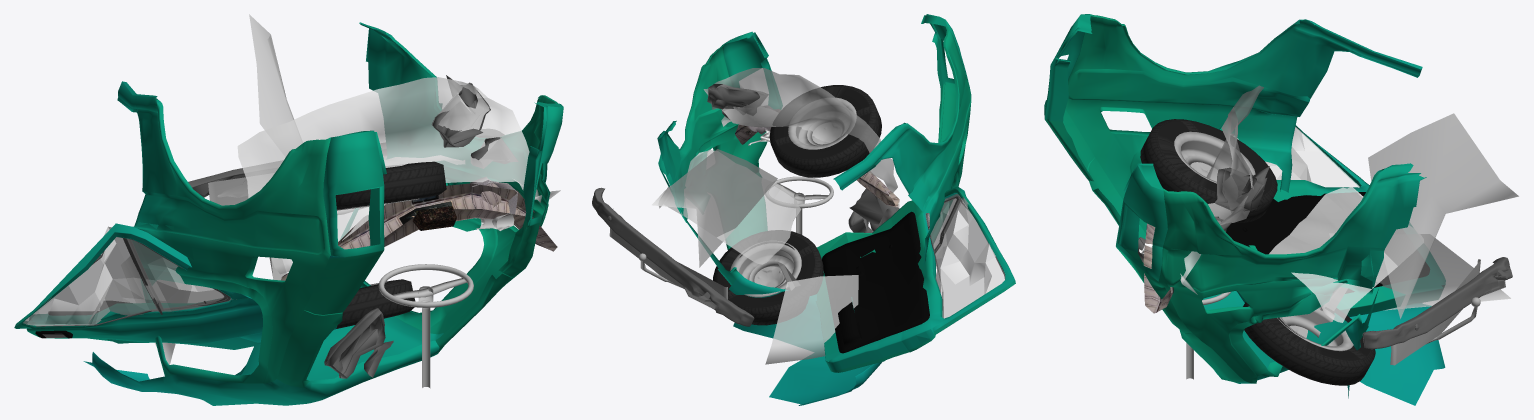
The model's file is car_3.fbx.
The picture shows the model from 3 angles, left to right: view 1: azimuth 30°, elevation 25°; view 2: azimuth 150°, elevation 25°; view 3: azimuth 270°, elevation 25°; orthographic projection. The views are drawn at different scales.
Visible parts, largest first — view 1: Mesh_0159_rip1, Mesh_0212_rip, Mesh_0134_rip, Mesh_0210_rip, Mesh_0081_rip, Mesh_0102_rip, Mesh_0209_rip, Mesh_0187_rip, Mesh_0104_rip1, Mesh_0187_rip.001, Mesh_0208_rip, Mesh_0096_rip (+5 smaller); view 2: Mesh_0159_rip1, Mesh_0023_rip, Mesh_0207_rip, Mesh_0212_rip, Mesh_0149_rip, Mesh_0209_rip, Mesh_0210_rip, Mesh_0208_rip, Mesh_0187_rip, Mesh_0187_rip.001, Mesh_0098_rip, Mesh_0195_rip (+7 smaller); view 3: Mesh_0159_rip1, Mesh_0209_rip, Mesh_0207_rip, Mesh_0023_rip, Mesh_0187_rip, Mesh_0187_rip.001, Mesh_0208_rip, Mesh_0212_rip, Mesh_0098_rip, Mesh_0149_rip, Mesh_0210_rip, Mesh_0195_rip (+6 smaller).
Part boxes in pixels (x1,y1,x2,y2): Mesh_0159_rip1: (83, 22, 563, 405); Mesh_0212_rip: (237, 77, 560, 274); Mesh_0134_rip: (14, 223, 337, 349); Mesh_0210_rip: (23, 226, 236, 325); Mesh_0081_rip: (281, 177, 557, 280); Mesh_0102_rip: (324, 75, 517, 378); Mesh_0209_rip: (249, 14, 302, 156); Mesh_0187_rip: (335, 161, 446, 209); Mesh_0104_rip1: (378, 264, 473, 388); Mesh_0187_rip.001: (336, 279, 415, 328); Mesh_0208_rip: (121, 257, 191, 364); Mesh_0096_rip: (36, 237, 230, 337); Mesh_0159_rip1: (657, 14, 971, 405); Mesh_0023_rip: (822, 211, 929, 353); Mesh_0207_rip: (659, 149, 801, 264); Mesh_0212_rip: (703, 68, 897, 192); Mesh_0149_rip: (816, 186, 1014, 369); Mesh_0209_rip: (652, 149, 777, 267); Mesh_0210_rip: (925, 194, 1004, 318); Mesh_0208_rip: (765, 275, 858, 364); Mesh_0187_rip: (769, 85, 881, 177); Mesh_0187_rip.001: (713, 230, 823, 325); Mesh_0098_rip: (592, 187, 754, 326); Mesh_0195_rip: (788, 97, 856, 149); Mesh_0159_rip1: (1044, 14, 1445, 405); Mesh_0209_rip: (1368, 113, 1518, 318); Mesh_0207_rip: (1269, 186, 1423, 322); Mesh_0023_rip: (1226, 192, 1429, 293); Mesh_0187_rip: (1140, 119, 1277, 222); Mesh_0187_rip.001: (1243, 302, 1375, 385); Mesh_0208_rip: (1330, 234, 1510, 310); Mesh_0212_rip: (1180, 85, 1263, 294); Mesh_0098_rip: (1362, 257, 1512, 349); Mesh_0149_rip: (1220, 125, 1445, 315); Mesh_0210_rip: (1234, 127, 1359, 187); Mesh_0195_rip: (1174, 131, 1255, 183).
Bounding box in the file's own units: 9.46 × 6.75 × 7.95.
Materials: 7 (4 with a texture image).
